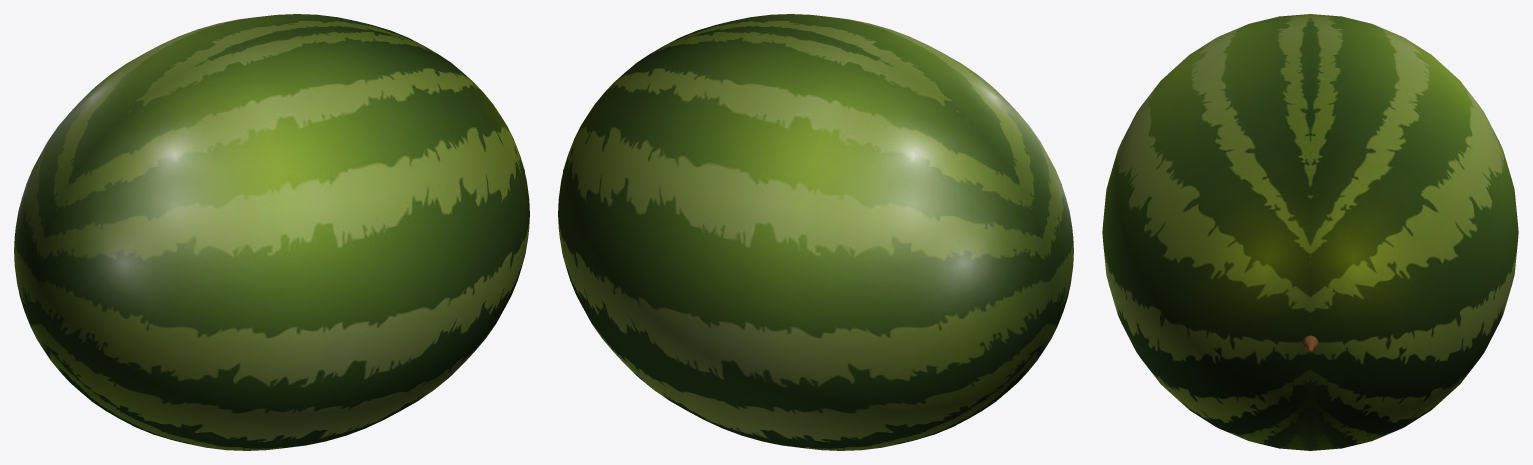
File: Watermelon.glb
3 views of the same model, side by side, from view 1: azimuth 30°, elevation 25°; view 2: azimuth 150°, elevation 25°; view 3: azimuth 270°, elevation 25° (orthographic). The views are drawn at different scales.
Visible parts, largest first — view 1: watermelon.001; view 2: watermelon.001; view 3: watermelon.001.
Part boxes in pixels (x1,y1,x2,y2): watermelon.001: [14, 14, 529, 450]; watermelon.001: [558, 14, 1073, 450]; watermelon.001: [1102, 14, 1518, 450].
Bounding box in the file's own units: 0.5015 × 0.3852 × 0.3852.
1 material, 1 textured.
